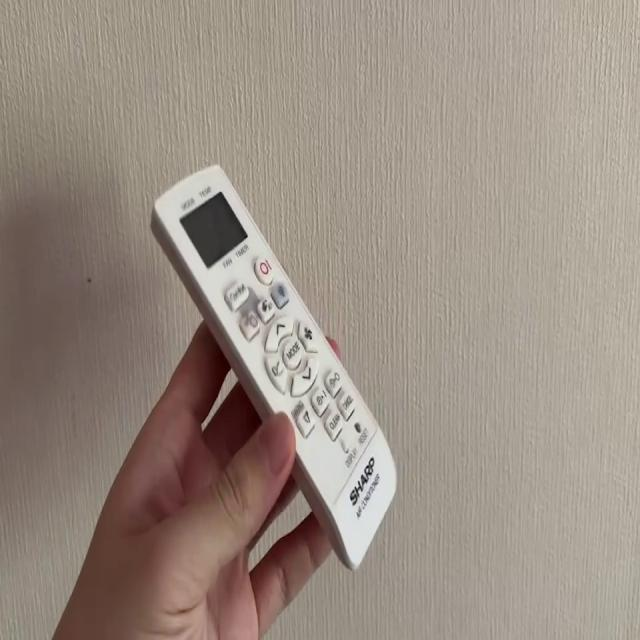remote: (151, 162, 397, 571)
